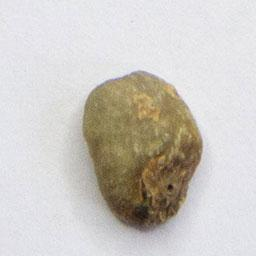defect: (77, 63, 215, 231)
